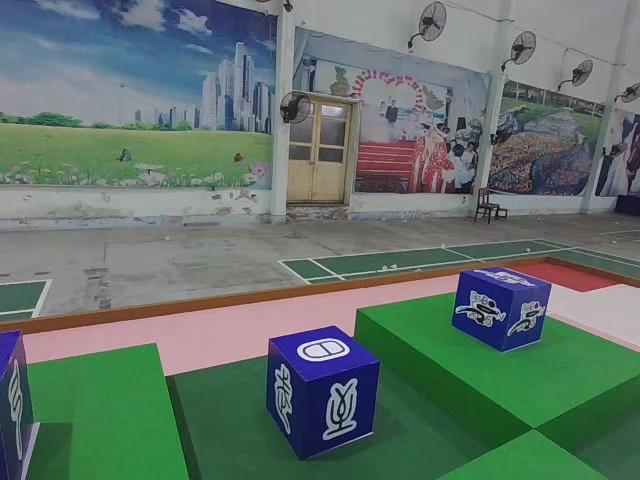R1 Blue: (450, 269, 552, 355)
R2 Fake Blue: (269, 326, 383, 461), (0, 336, 36, 480), (0, 336, 35, 480)
